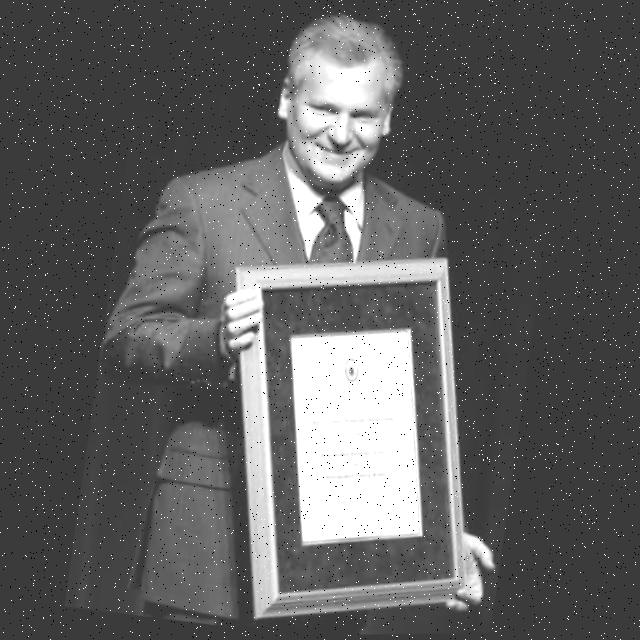face: (276, 20, 419, 207)
